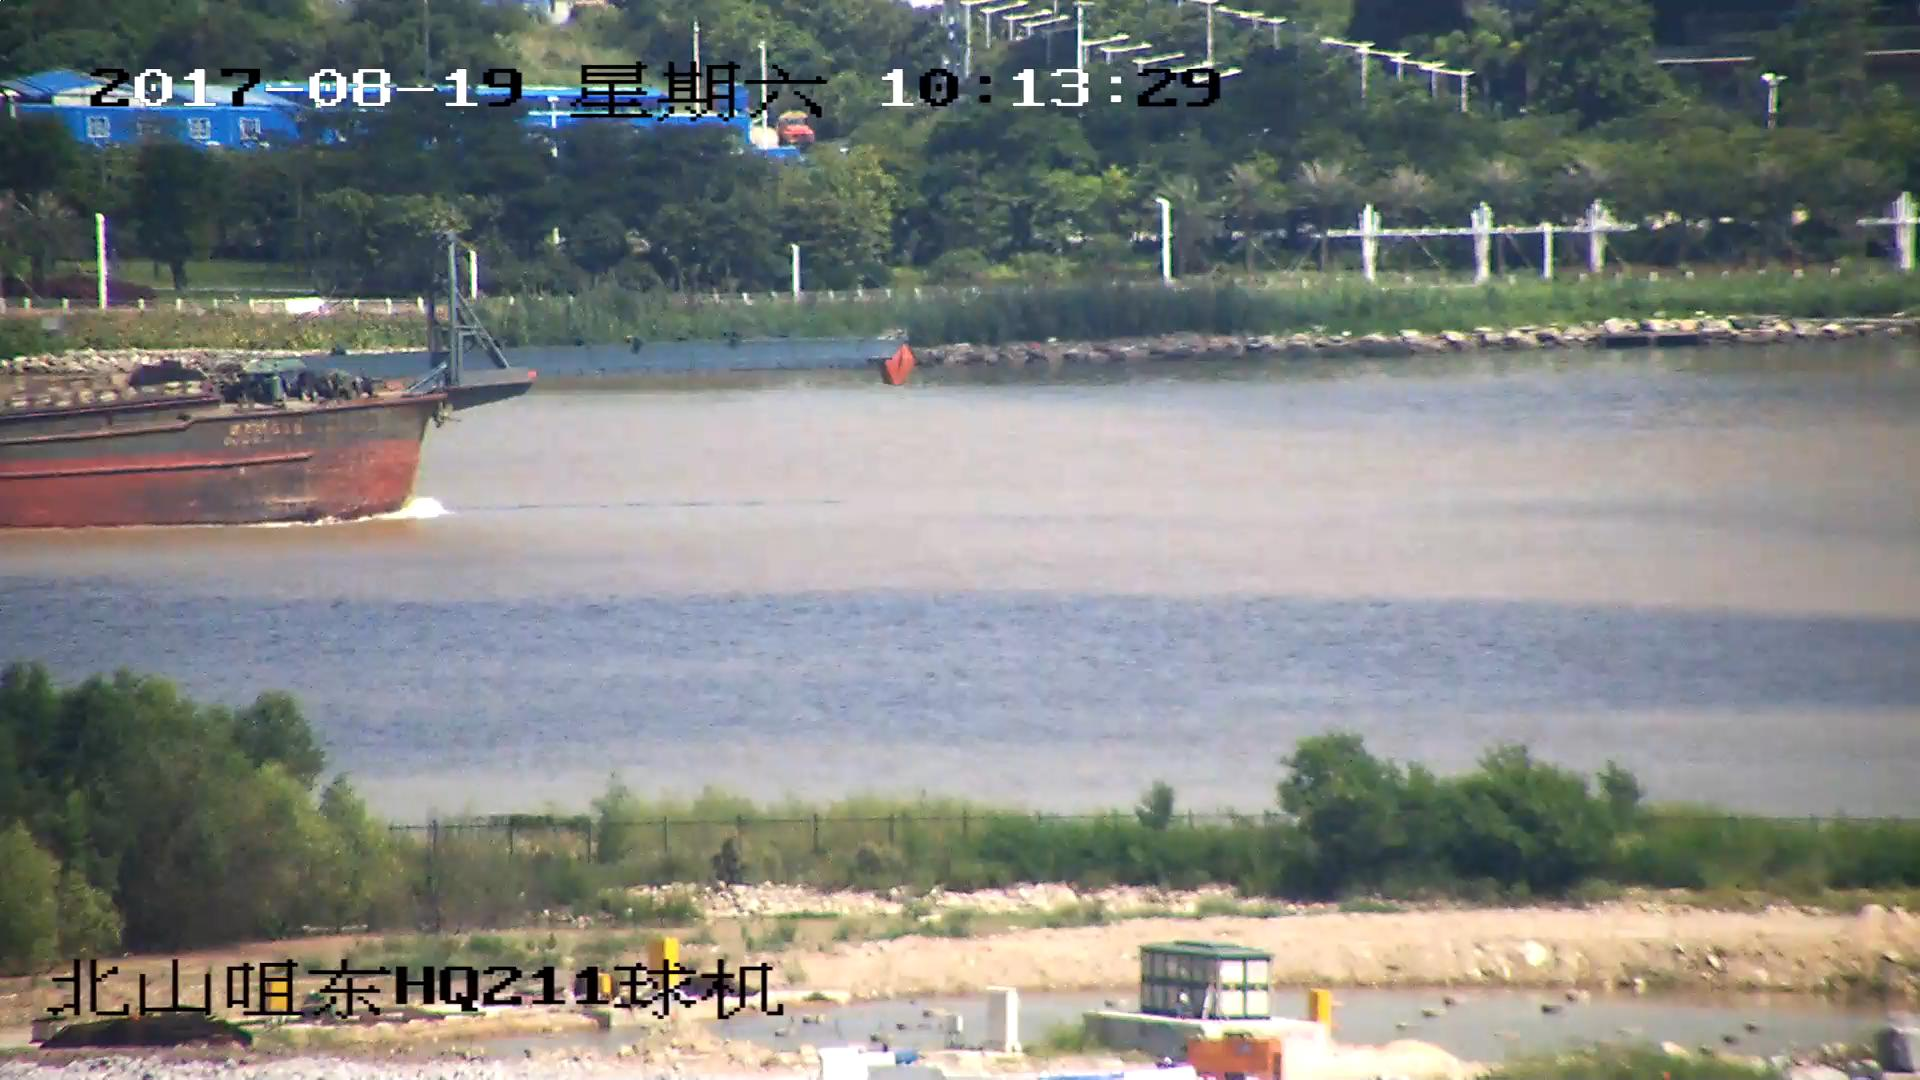bulk cargo carrier: (1, 220, 908, 526)
